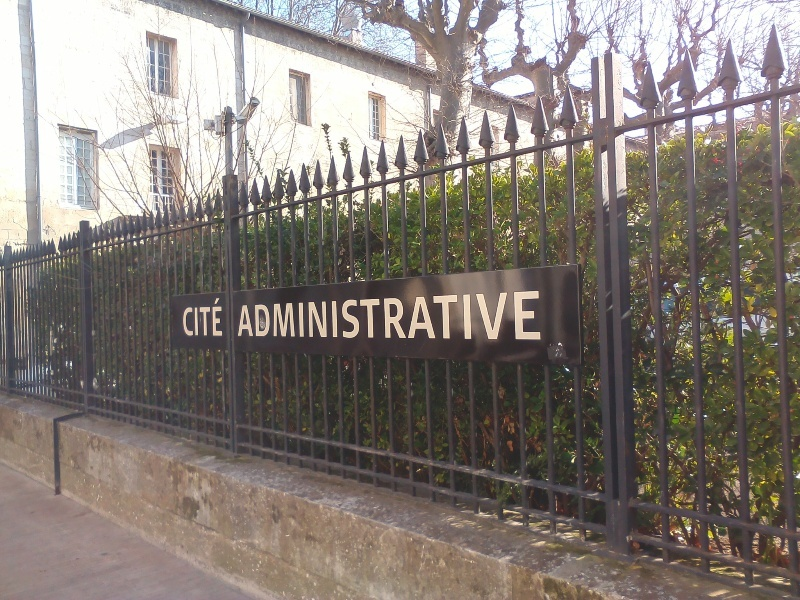text: (241, 285, 256, 342), (257, 285, 272, 342), (273, 285, 288, 342), (289, 285, 304, 342), (305, 285, 320, 342), (321, 285, 336, 342), (337, 285, 352, 342), (353, 285, 368, 342), (369, 285, 384, 342), (385, 285, 400, 342), (401, 285, 416, 342), (417, 285, 432, 342), (433, 285, 448, 342), (449, 285, 464, 342), (465, 285, 480, 342), (481, 285, 496, 342), (497, 285, 512, 342), (513, 285, 528, 342), (529, 285, 544, 342), (193, 297, 208, 337), (209, 297, 224, 337), (183, 297, 192, 337), (545, 285, 549, 342), (239, 285, 240, 342)
